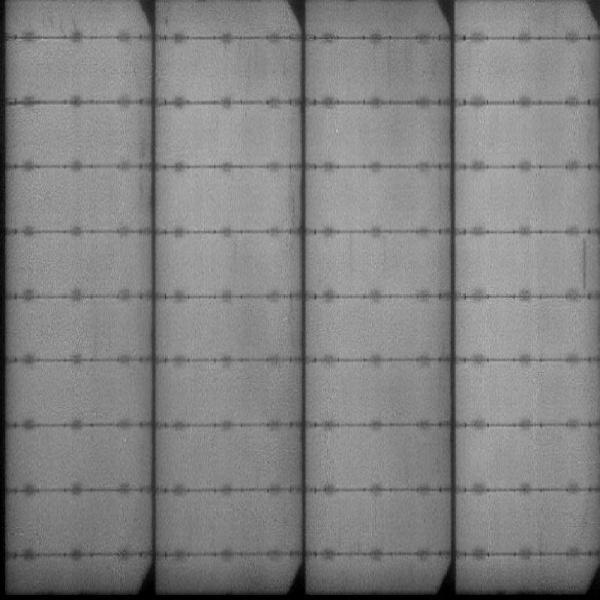scratch: (579, 240, 590, 290)
